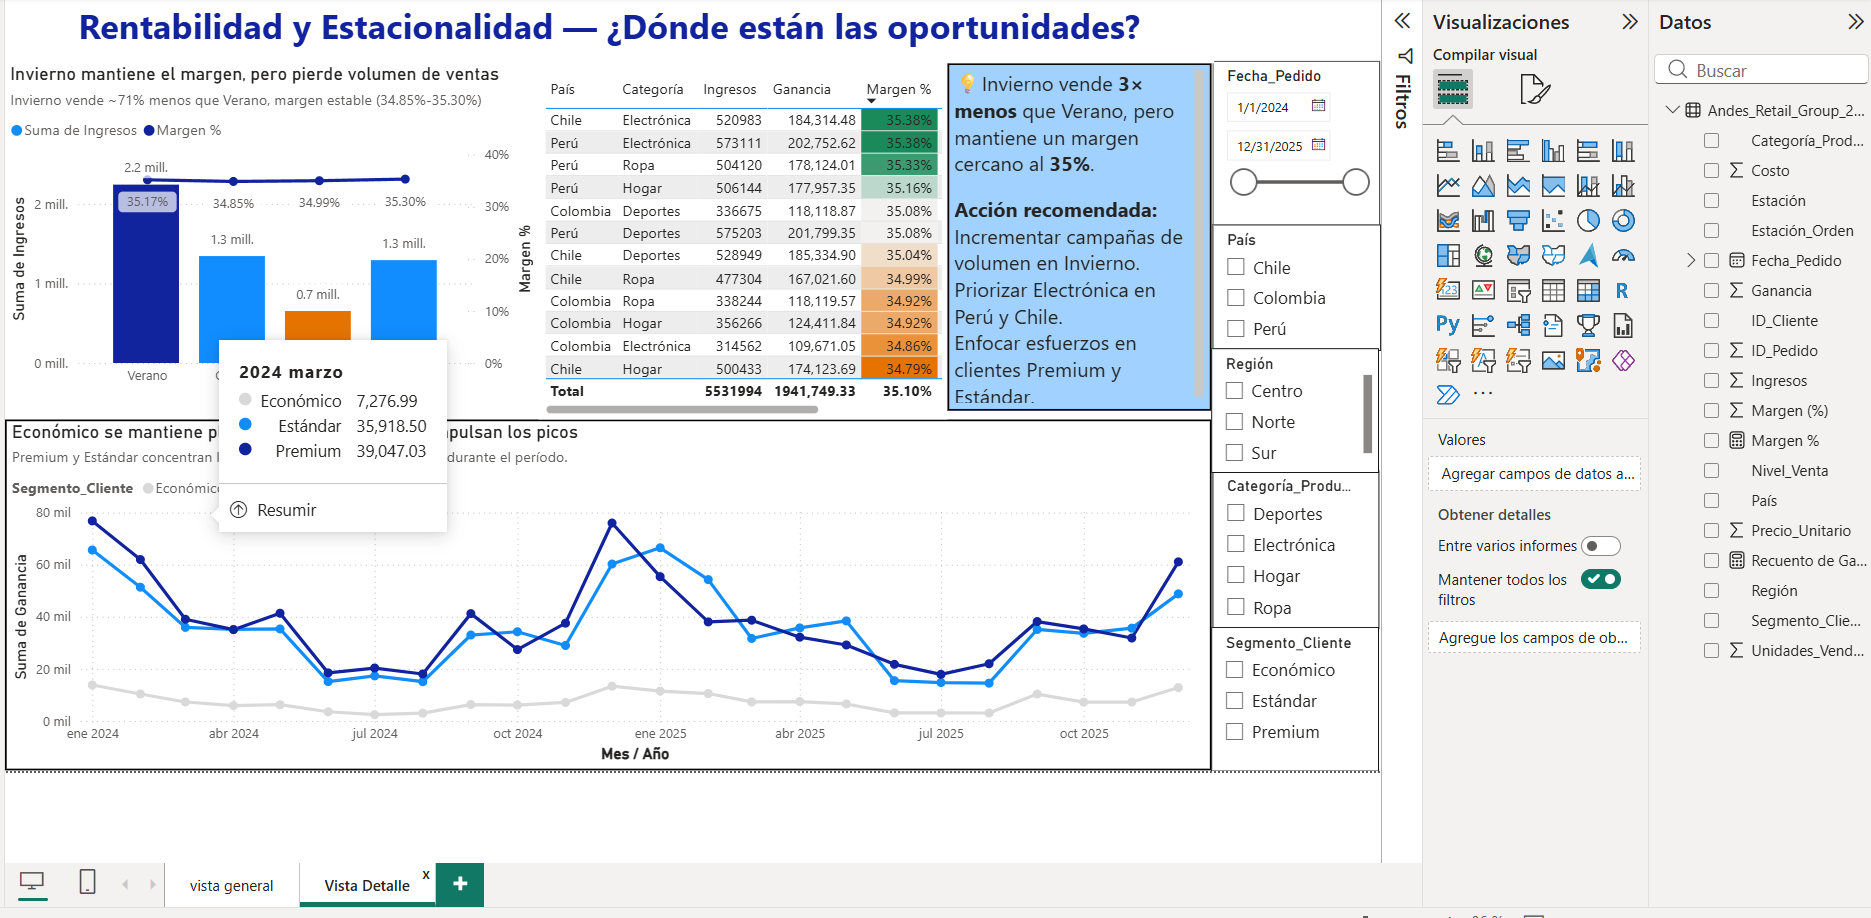

The page's visual inventory and layout, read from the dashboard file:
{"tool":"powerbi","page":{"name":"Vista Detalle","canvas":[1280,720],"ordinal":1},"visuals":[{"type":"lineChart","title":"Económico se mantiene plano; Premium y Estándar impulsan los picos","fields":{"Category":["Andes_Retail_Group_2024_2025.Fecha_Pedido.Variación.Jerarquía de fechas.Año","Andes_Retail_Group_2024_2025.Fecha_Pedido.Variación.Jerarquía de fechas.Mes"],"Y":["Sum(Andes_Retail_Group_2024_2025.Ganancia)"],"Series":["Andes_Retail_Group_2024_2025.Segmento_Cliente"]},"box":[0,393,1145.4,326.7],"z":0},{"type":"tableEx","fields":{"Values":["Andes_Retail_Group_2024_2025.País","Andes_Retail_Group_2024_2025.Categoría_Producto","Sum(Andes_Retail_Group_2024_2025.Ingresos)","Sum(Andes_Retail_Group_2024_2025.Ganancia)","Andes_Retail_Group_2024_2025.Margen %","CountNonNull(Andes_Retail_Group_2024_2025.ID_Pedido)","Andes_Retail_Group_2024_2025.ID_Cliente"]},"box":[466.3,69.8,507,323.3],"z":1000},{"type":"lineClusteredColumnComboChart","title":"Invierno mantiene el margen, pero pierde volumen de ventas","fields":{"Category":["Andes_Retail_Group_2024_2025.Estación"],"Y2":["Andes_Retail_Group_2024_2025.Margen %"],"Y":["Sum(Andes_Retail_Group_2024_2025.Ingresos)"]},"box":[0,61.6,466.3,331.4],"z":2000},{"type":"slicer","fields":{"Values":["Andes_Retail_Group_2024_2025.Fecha_Pedido"]},"box":[1145.4,59.3,133.7,154.7],"z":3000},{"type":"textbox","box":[973.3,61.6,172.1,331.4],"z":4000},{"type":"slicer","fields":{"Values":["Andes_Retail_Group_2024_2025.País"]},"box":[1145.4,211.6,134.9,117.4],"z":5000},{"type":"slicer","fields":{"Values":["Andes_Retail_Group_2024_2025.Categoría_Producto"]},"box":[1145.4,440.7,132.6,147.7],"z":6000},{"type":"textbox","box":[0,0,1124.4,61.6],"z":7000},{"type":"slicer","fields":{"Values":["Andes_Retail_Group_2024_2025.Segmento_Cliente"]},"box":[1145.4,586,132.6,133.7],"z":8000},{"type":"slicer","fields":{"Values":["Andes_Retail_Group_2024_2025.Región"]},"box":[1145.4,326.7,132.6,116.3],"z":9000}]}

Visuals, with their boxes on the page's 1280x720 design canvas (x1, y1, x2, y2). These are canvas units, not pixel positions in the 1871x918 screenshot, which may show the page scaled, cropped or inside an application window:
"Económico se mantiene plano; Premium y Estándar impulsan los picos" lineChart: <region>0, 393, 1145, 720</region>
tableEx - Andes_Retail_Group_2024_2025.País x Andes_Retail_Group_2024_2025.Categoría_Producto: <region>466, 70, 973, 393</region>
"Invierno mantiene el margen, pero pierde volumen de ventas" lineClusteredColumnComboChart: <region>0, 62, 466, 393</region>
slicer - Andes_Retail_Group_2024_2025.Fecha_Pedido: <region>1145, 59, 1279, 214</region>
textbox: <region>973, 62, 1145, 393</region>
slicer - Andes_Retail_Group_2024_2025.País: <region>1145, 212, 1280, 329</region>
slicer - Andes_Retail_Group_2024_2025.Categoría_Producto: <region>1145, 441, 1278, 588</region>
textbox: <region>0, 0, 1124, 62</region>
slicer - Andes_Retail_Group_2024_2025.Segmento_Cliente: <region>1145, 586, 1278, 720</region>
slicer - Andes_Retail_Group_2024_2025.Región: <region>1145, 327, 1278, 443</region>
